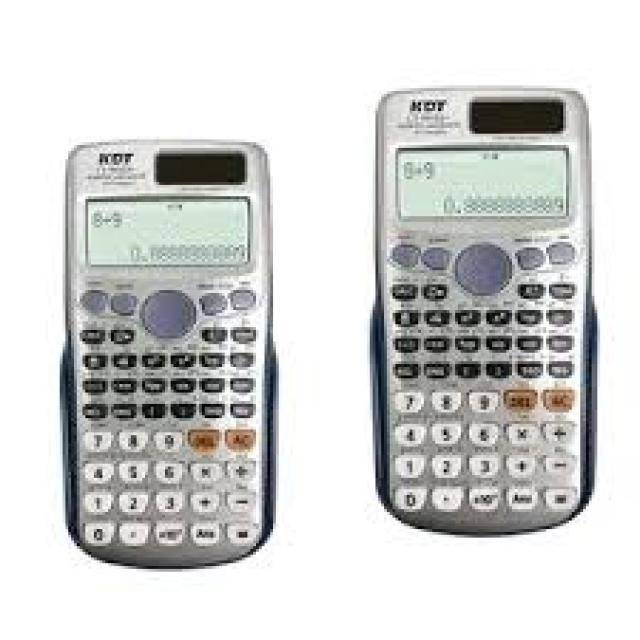Calculator: (375, 64, 593, 542), (57, 129, 287, 572)
